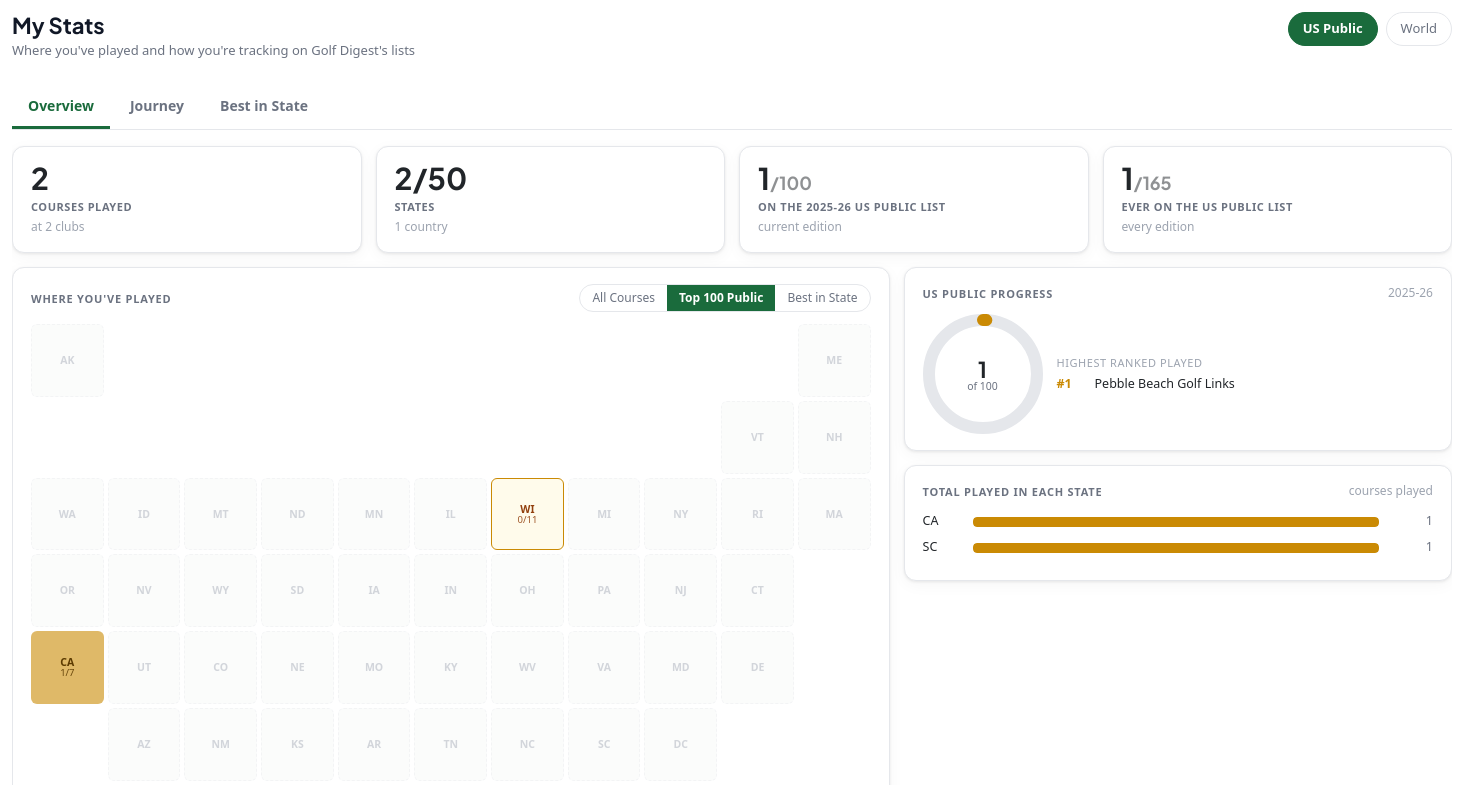
Scenario: Stats overview › lists the courses in a state when it is clicked
Click the button titled "Wisconsin: 0 of 11 ranked courses played": (527, 514) [491, 478, 564, 550]
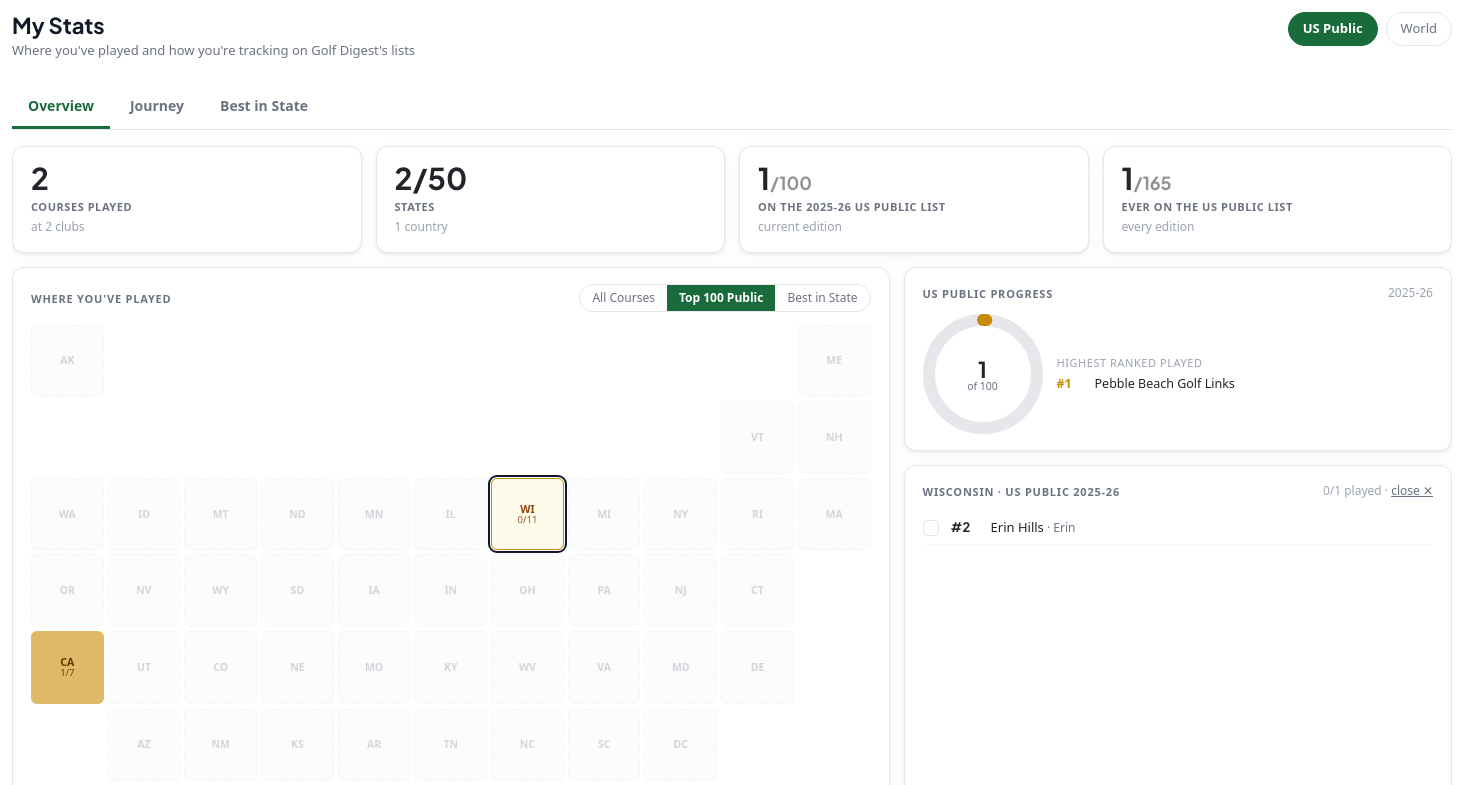
Expected: the heading "Wisconsin · US Public 2025-26" is shown, [922, 485, 1120, 498]
Expected: the text "Erin Hills" is shown, [990, 518, 1044, 536]
Clicking the same state again, or Close, returns to the gaps card.
Click the button "close ✕": (1412, 491) [1391, 482, 1433, 500]
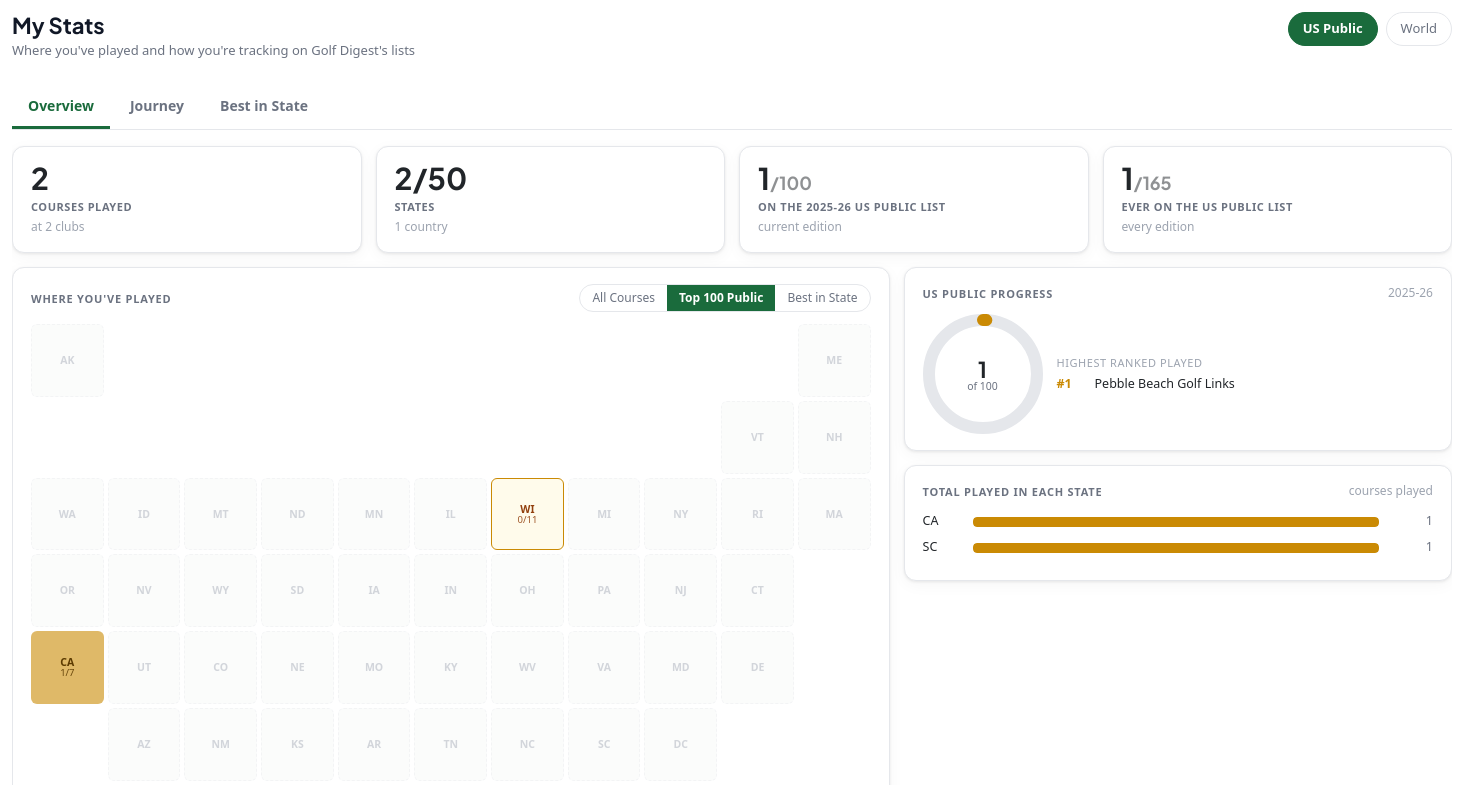
Expected: the heading "Total played in each state" is shown, [922, 485, 1102, 498]
